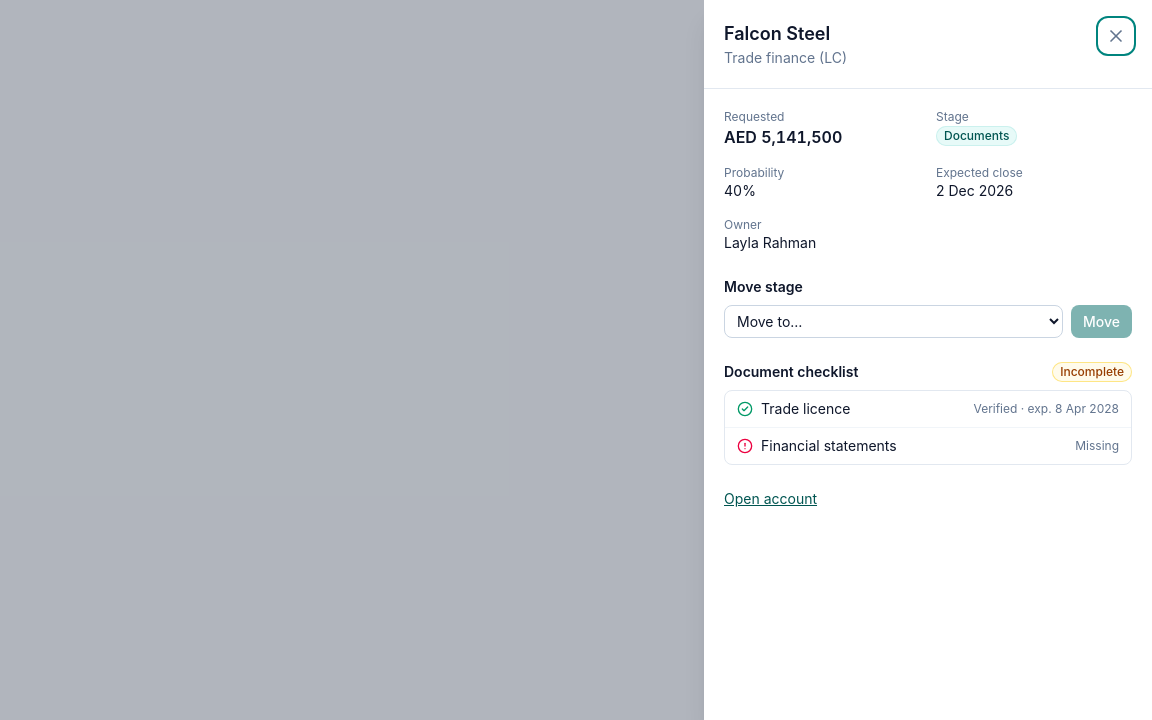
Test: DealDrawer › shows the checklist and the server refusal for a stage move
The image size is (1152, 720).
Later steps or results of the test are not shown.
Expected: the dialog "Falcon Steel" is shown, [704,0,1151,719]
Expected: the text "Incomplete" is shown, [1052,362,1132,382]
Select "Lost" in the dropdown named "Move to stage": (894, 322) [724,305,1063,338]
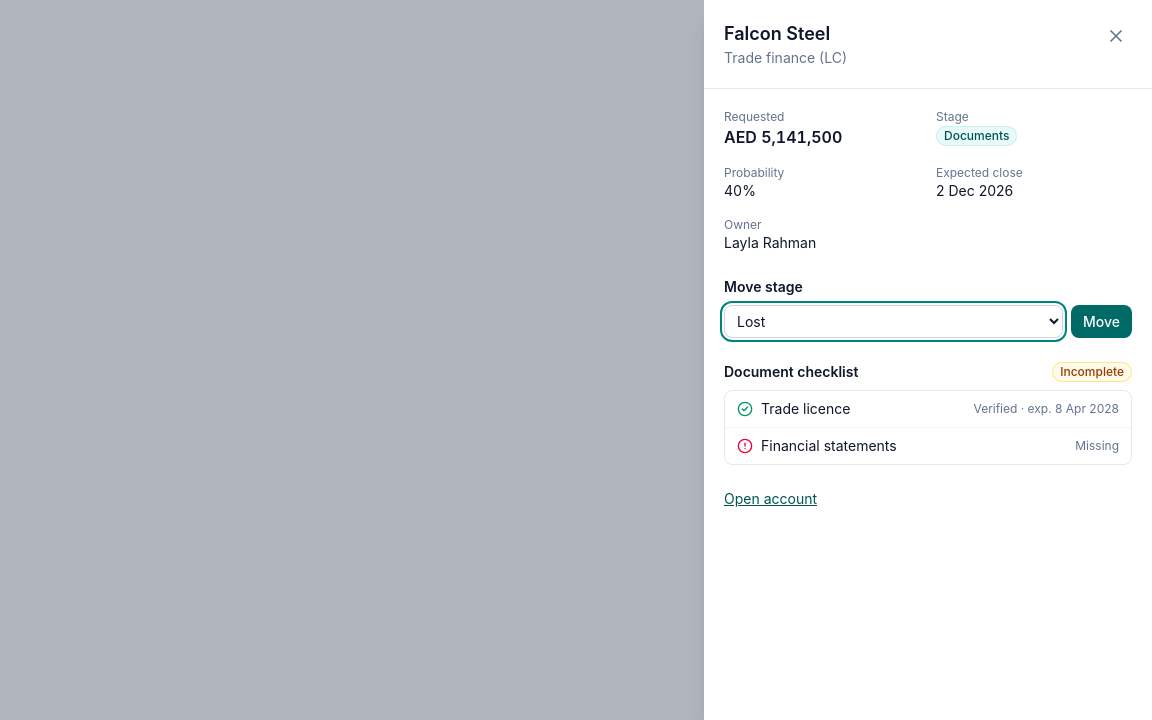
Click the button "Move": (1102, 322) [1071,305,1132,338]
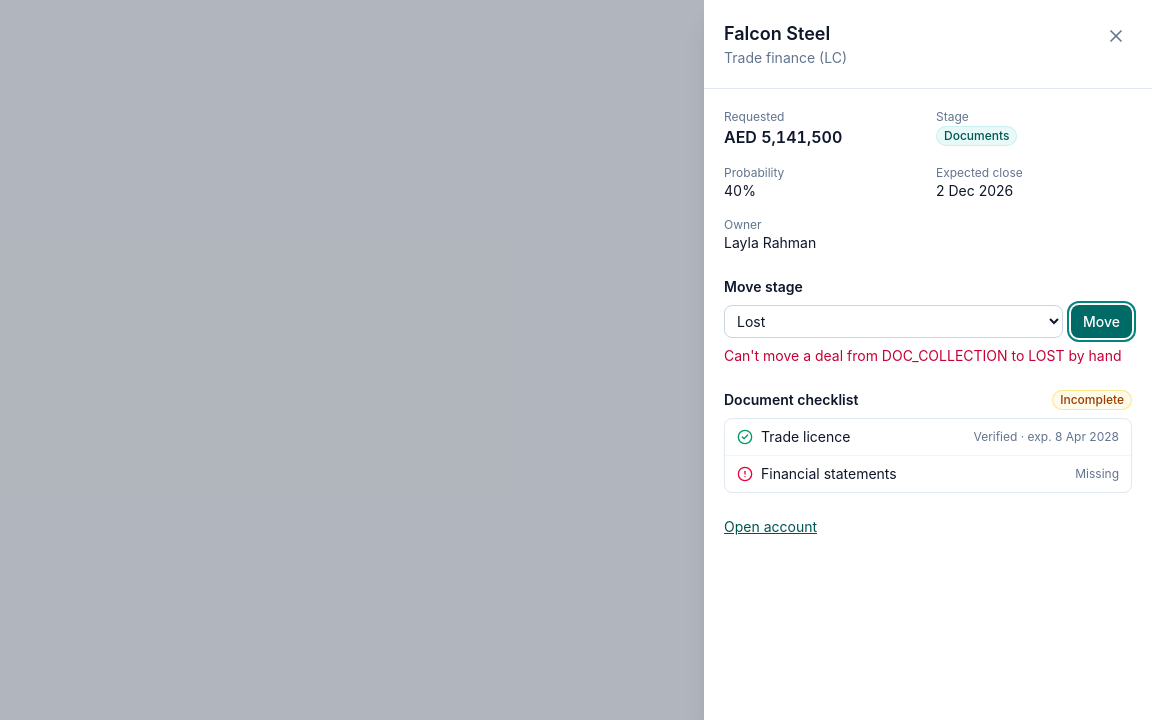
Expected: the message shows "Can't move a deal", [724,347,1122,364]
